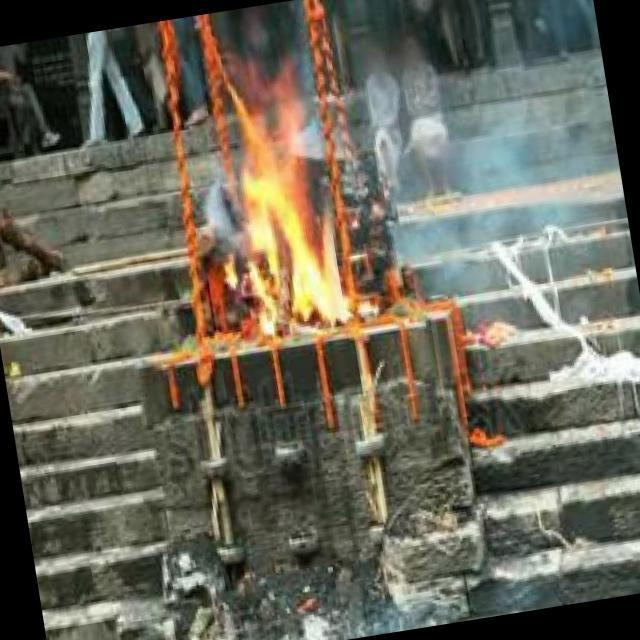Fire: (208, 48, 374, 355)
